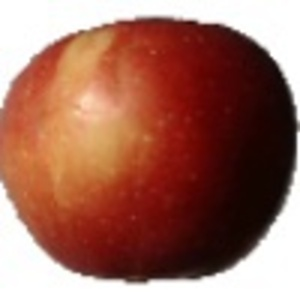maçã braeburn: (1, 16, 299, 281)
